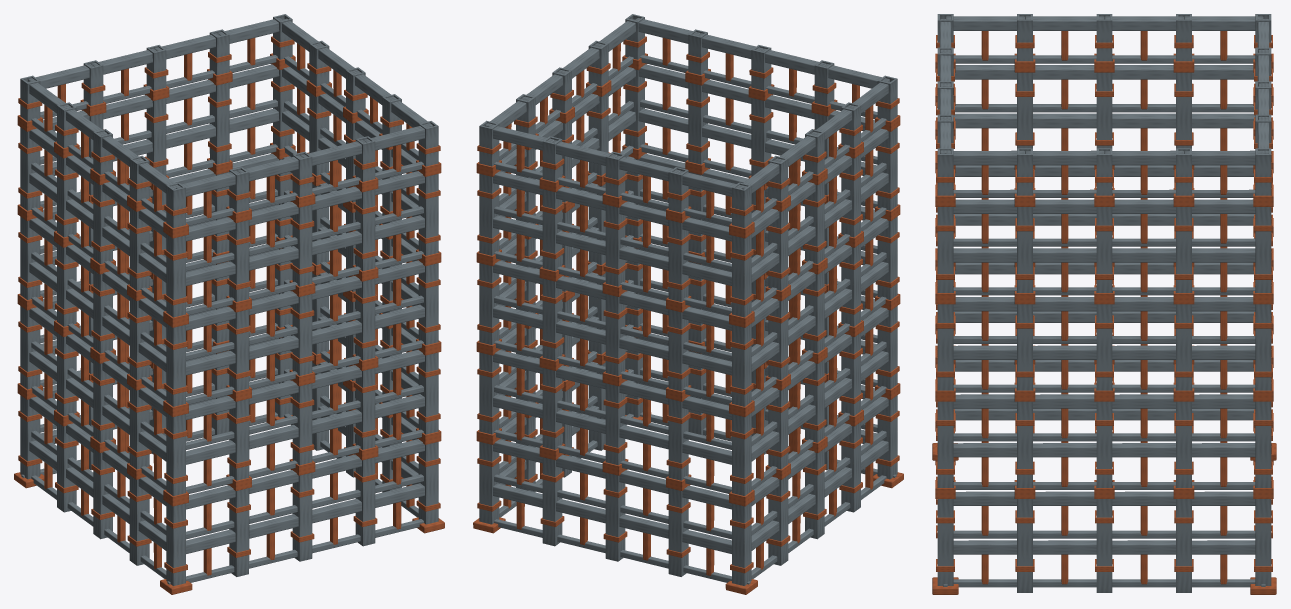
The picture shows the model from 3 angles, left to right: view 1: azimuth 30°, elevation 25°; view 2: azimuth 150°, elevation 25°; view 3: azimuth 270°, elevation 25°; orthographic projection. The views are drawn at different scales.
Visible parts, largest first — view 1: Tier 0 side 0 post 2, Tier 0 side 0 post 0, Tier 0 side 0 post 1, Tier 2 side 0 post 0, Tier 3 side 0 post 0, Tier 1 side 0 post 0, Tier 0 side 0 post 3, Tier 2 side 0 post 2, Tier 1 side 0 post 1, Tier 3 side 0 post 2, Tier 1 side 0 post 2, Tier 2 side 0 post 1 (+91 smaller); view 2: Tier 0 side 2 post 2, Tier 0 side 2 post 3, Tier 0 side 3 post 0, Tier 3 side 3 post 0, Tier 2 side 3 post 0, Tier 1 side 3 post 0, Tier 0 side 2 post 1, Tier 1 side 2 post 3, Tier 3 side 2 post 2, Tier 2 side 2 post 3, Tier 3 side 2 post 3, Tier 2 side 2 post 2 (+91 smaller); view 3: Tier 0 side 1 post 2, Tier 0 side 1 post 1, Tier 0 side 1 post 3, Tier 2 side 1 post 0, Tier 2 side 2 post 0, Tier 2 side 1 post 2, Tier 1 side 1 post 0, Tier 1 side 2 post 0, Tier 0 side 1 post 0, Tier 0 side 2 post 0, Tier 1 side 1 post 2, Tier 3 side 1 post 0 (+135 smaller).
Boxes of the visible parts, x1,y1,x2,y2 form: Tier 0 side 0 post 2: (292, 472, 312, 561); Tier 0 side 0 post 0: (166, 502, 185, 585); Tier 0 side 0 post 1: (229, 488, 249, 576); Tier 2 side 0 post 0: (166, 323, 185, 406); Tier 3 side 0 post 0: (166, 234, 185, 317); Tier 1 side 0 post 0: (166, 413, 185, 495); Tier 0 side 0 post 3: (355, 457, 375, 546); Tier 2 side 0 post 2: (292, 294, 312, 375); Tier 1 side 0 post 1: (229, 398, 249, 480); Tier 3 side 0 post 2: (292, 204, 312, 286); Tier 1 side 0 post 2: (292, 383, 312, 465); Tier 2 side 0 post 1: (229, 309, 249, 391); Tier 0 side 2 post 2: (605, 472, 625, 561); Tier 0 side 2 post 3: (668, 488, 688, 576); Tier 0 side 3 post 0: (732, 502, 751, 585); Tier 3 side 3 post 0: (732, 234, 751, 317); Tier 2 side 3 post 0: (732, 323, 751, 406); Tier 1 side 3 post 0: (732, 413, 751, 495); Tier 0 side 2 post 1: (542, 457, 562, 546); Tier 1 side 2 post 3: (668, 398, 688, 480); Tier 3 side 2 post 2: (605, 204, 625, 286); Tier 2 side 2 post 3: (668, 309, 688, 391); Tier 3 side 2 post 3: (668, 220, 688, 301); Tier 2 side 2 post 2: (605, 294, 625, 375); Tier 0 side 1 post 2: (1096, 499, 1112, 592); Tier 0 side 1 post 1: (1017, 499, 1032, 592); Tier 0 side 1 post 3: (1176, 499, 1191, 592); Tier 2 side 1 post 0: (937, 304, 953, 390); Tier 2 side 2 post 0: (1255, 304, 1271, 390); Tier 2 side 1 post 2: (1096, 304, 1112, 390); Tier 1 side 1 post 0: (937, 401, 953, 487); Tier 1 side 2 post 0: (1255, 401, 1271, 487); Tier 0 side 1 post 0: (937, 499, 953, 585); Tier 0 side 2 post 0: (1255, 499, 1271, 585); Tier 1 side 1 post 2: (1096, 401, 1112, 487); Tier 3 side 1 post 0: (937, 207, 953, 292).
Size of the model in its own units: 1.95 by 2.74 by 1.95.
Materials: 2 (2 with a texture image).
